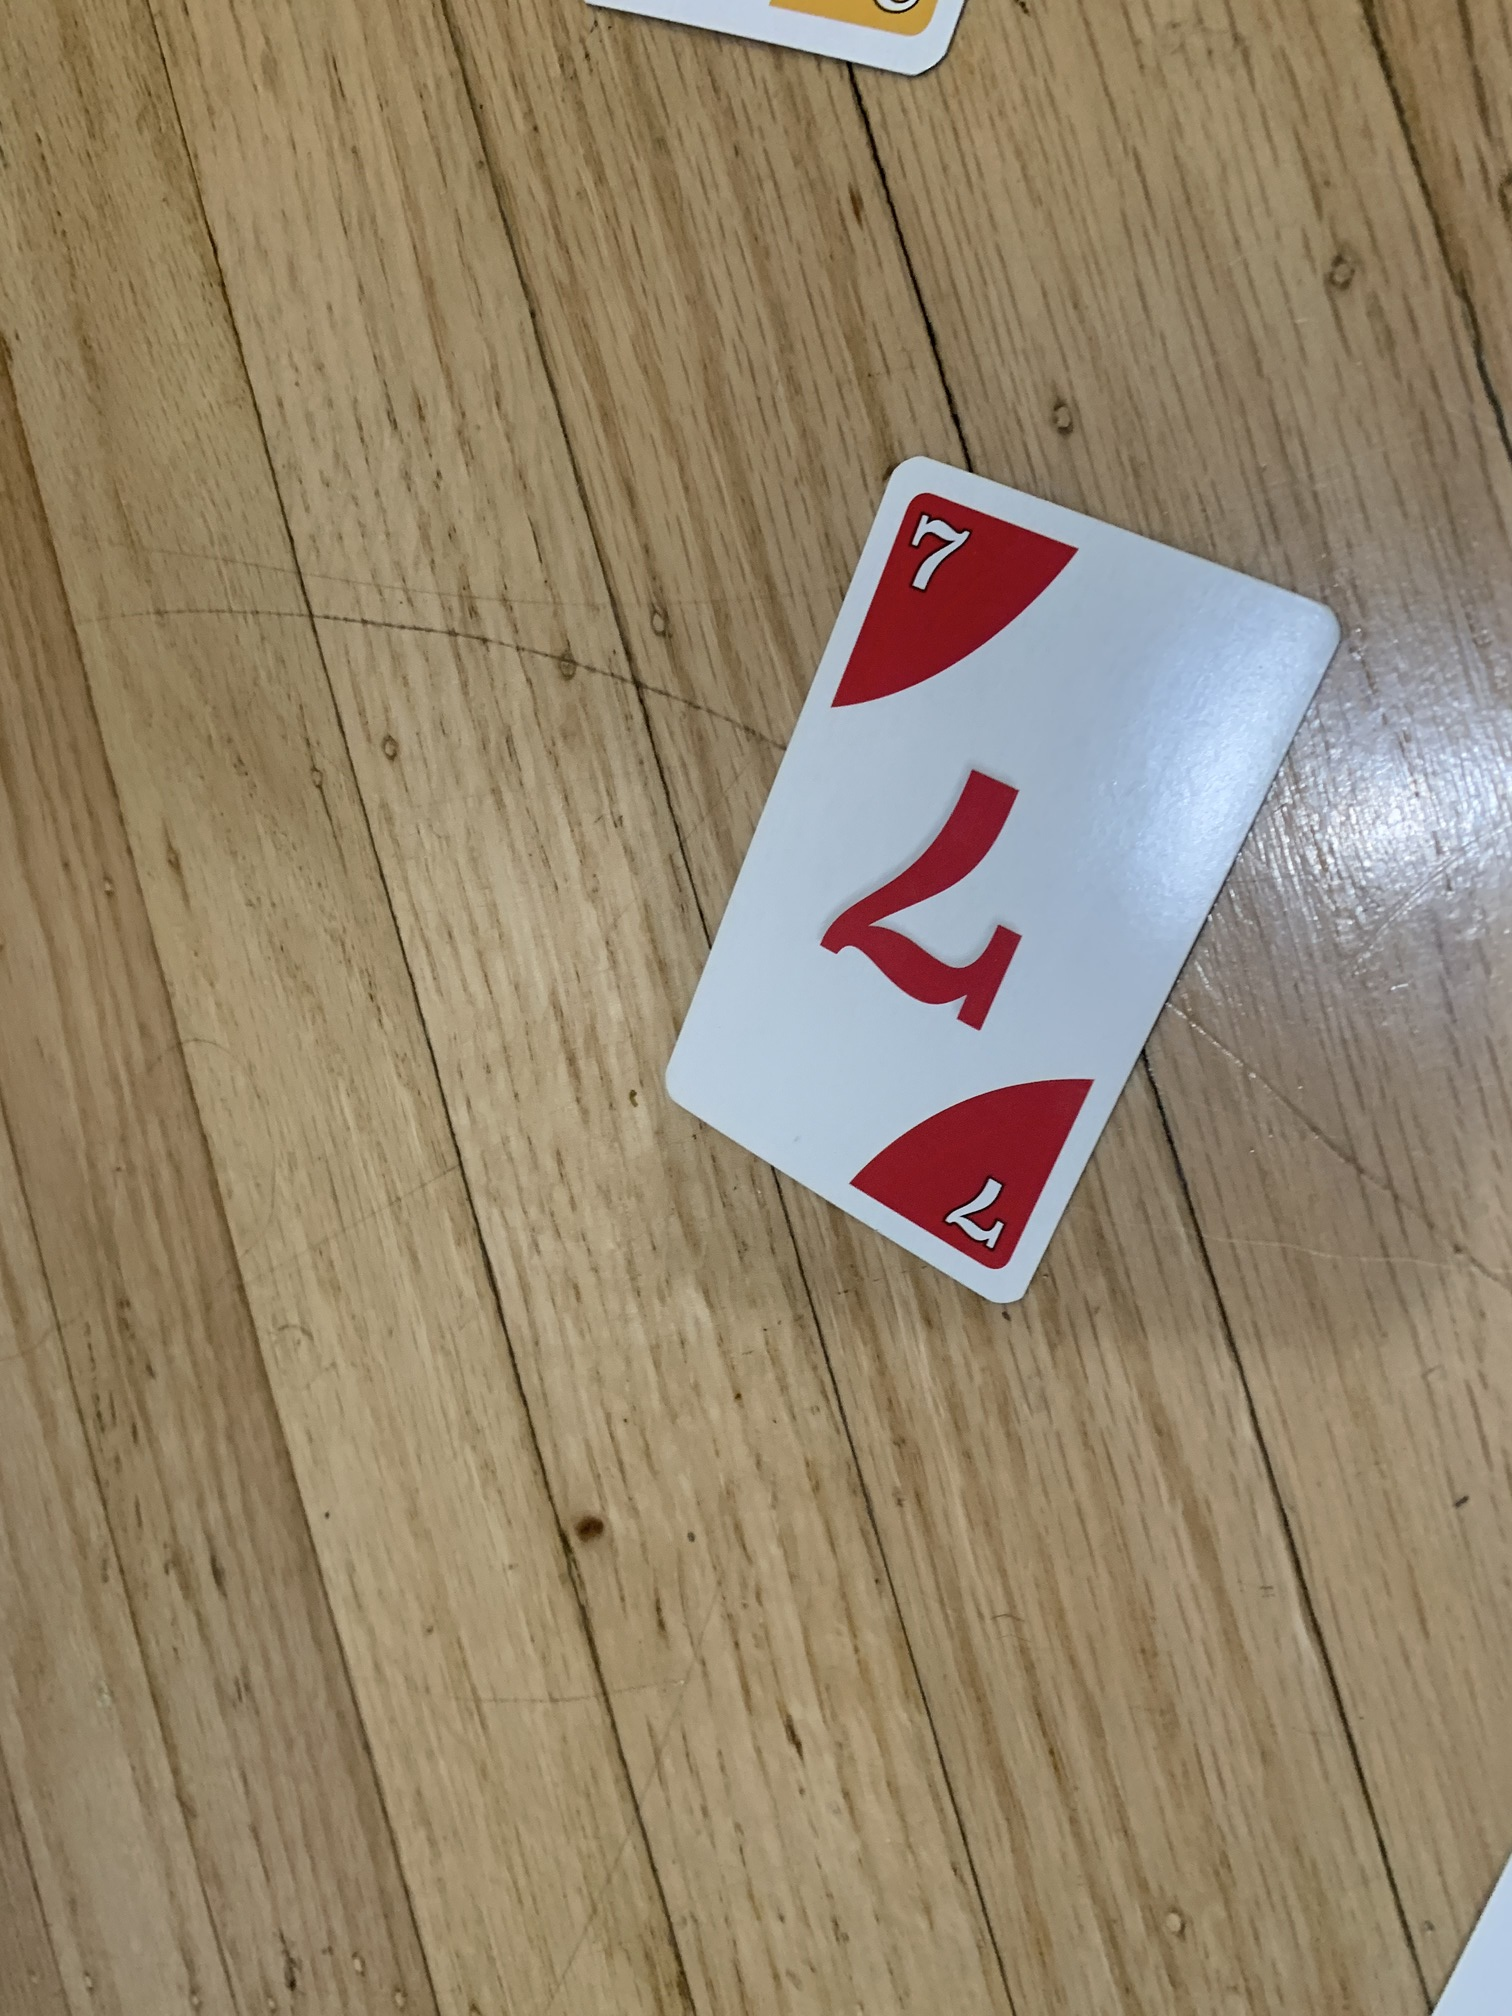seven: (646, 448, 1337, 1306)
